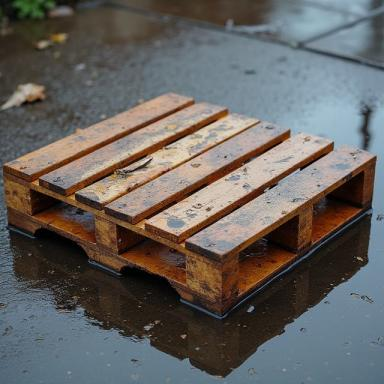pallet: (3, 92, 377, 317)
